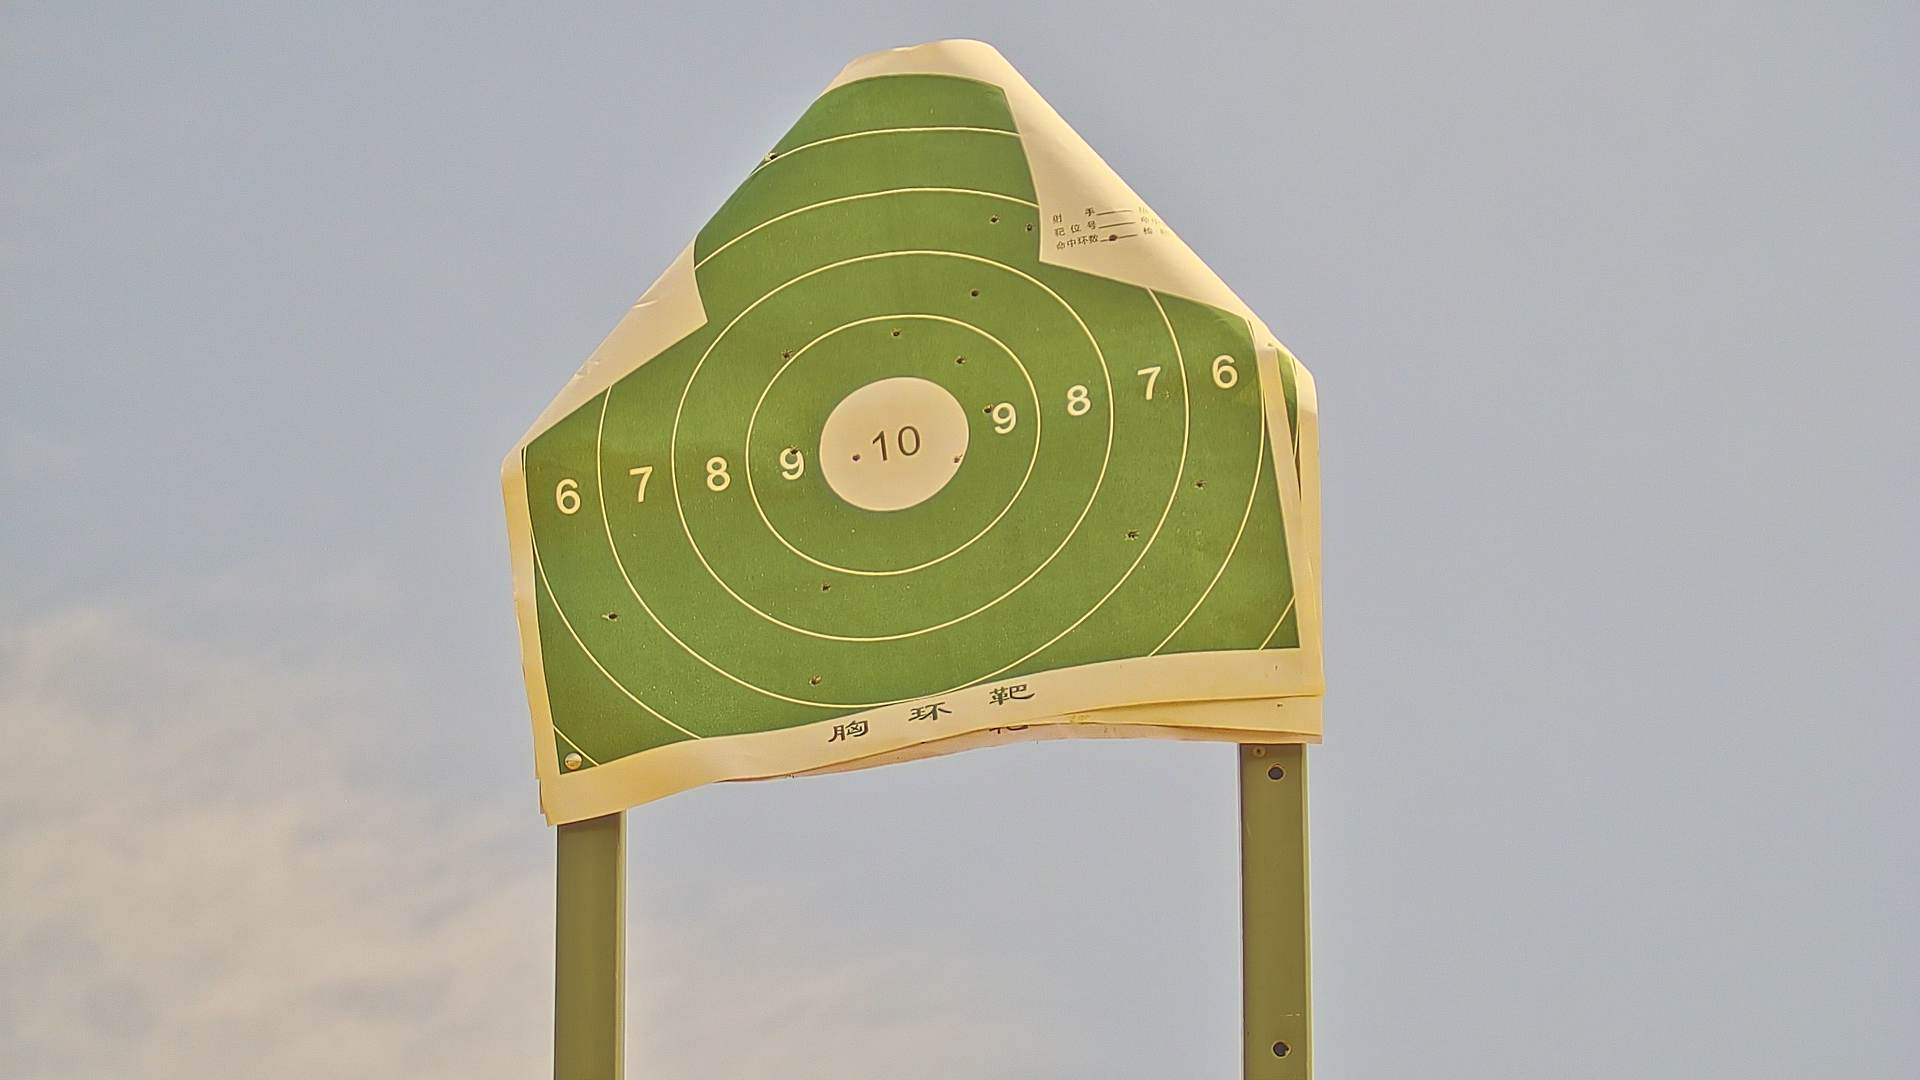hole: (1124, 524, 1142, 546), (775, 347, 800, 363), (804, 669, 824, 688), (603, 605, 621, 624), (1189, 472, 1207, 492), (949, 450, 967, 468), (818, 576, 835, 593), (981, 398, 994, 419), (951, 355, 971, 368), (887, 323, 905, 338), (985, 211, 1001, 225), (967, 284, 982, 298), (851, 450, 864, 464), (789, 443, 798, 462), (1025, 222, 1036, 235)
kernel: (890, 444, 898, 447)
target: (524, 76, 1300, 782)
ten: (814, 378, 977, 516)
